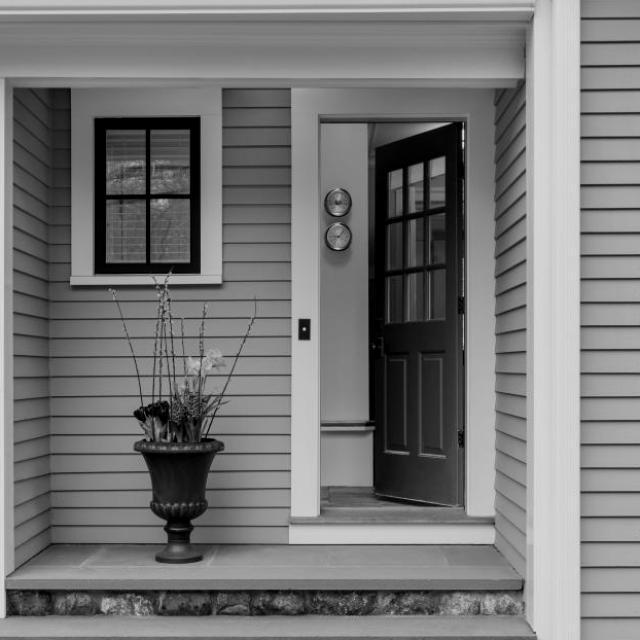door: (370, 120, 464, 507)
